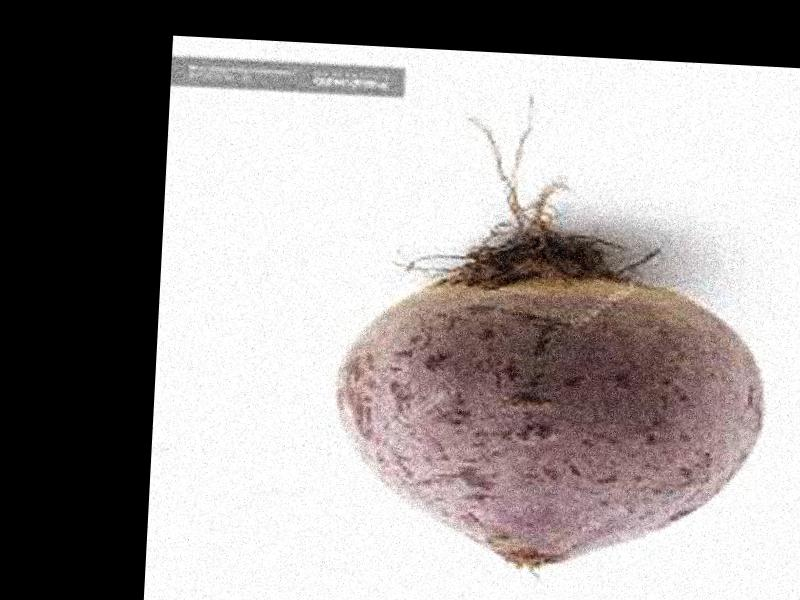Beet: (323, 84, 781, 583)
